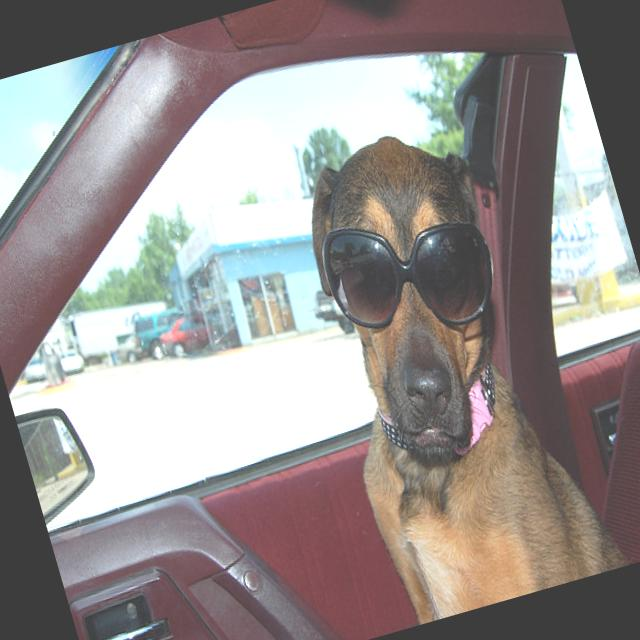Vehicle: (41, 288, 176, 376), (130, 304, 196, 364), (130, 303, 194, 363), (156, 312, 214, 363), (309, 285, 356, 342), (111, 329, 154, 368), (17, 351, 48, 384), (56, 346, 86, 376)
